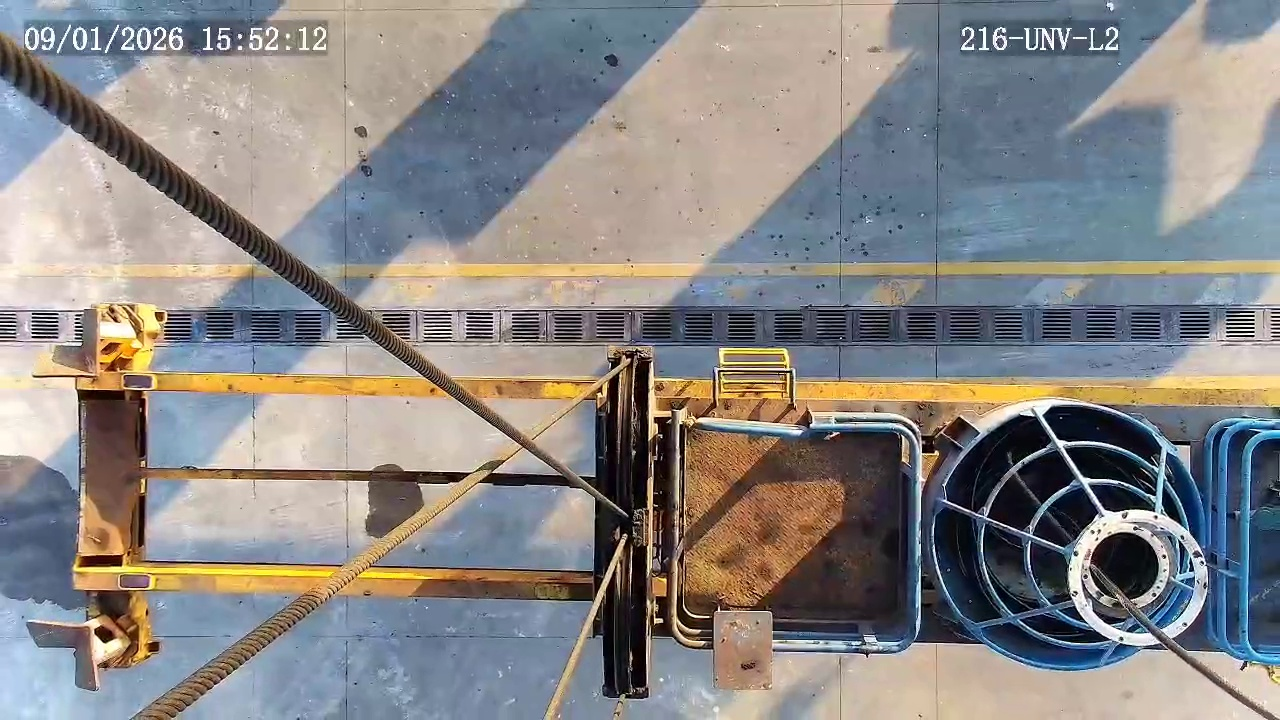left: (931, 405, 1207, 669)
